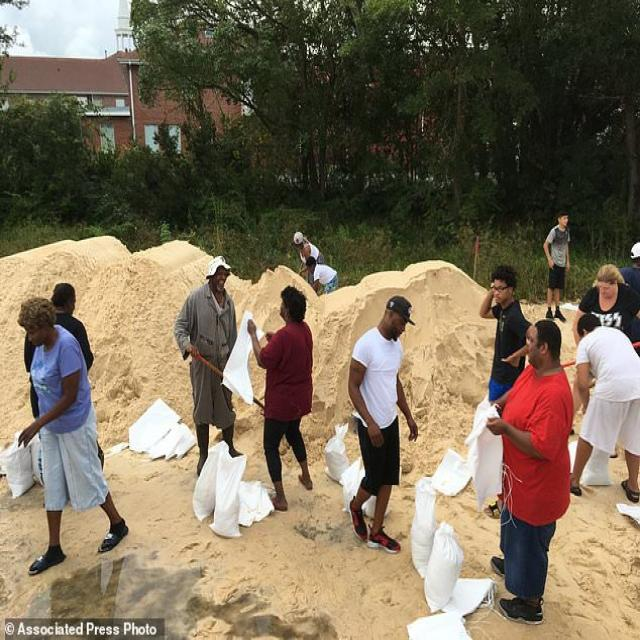body: (13, 294, 131, 579), (484, 318, 574, 627), (344, 292, 421, 555), (23, 282, 95, 509), (173, 253, 244, 480), (245, 283, 315, 513), (479, 263, 537, 521), (567, 312, 640, 506), (567, 262, 640, 436), (40, 546, 152, 638), (540, 208, 572, 324), (609, 233, 639, 338), (292, 232, 325, 286), (304, 254, 340, 296)
